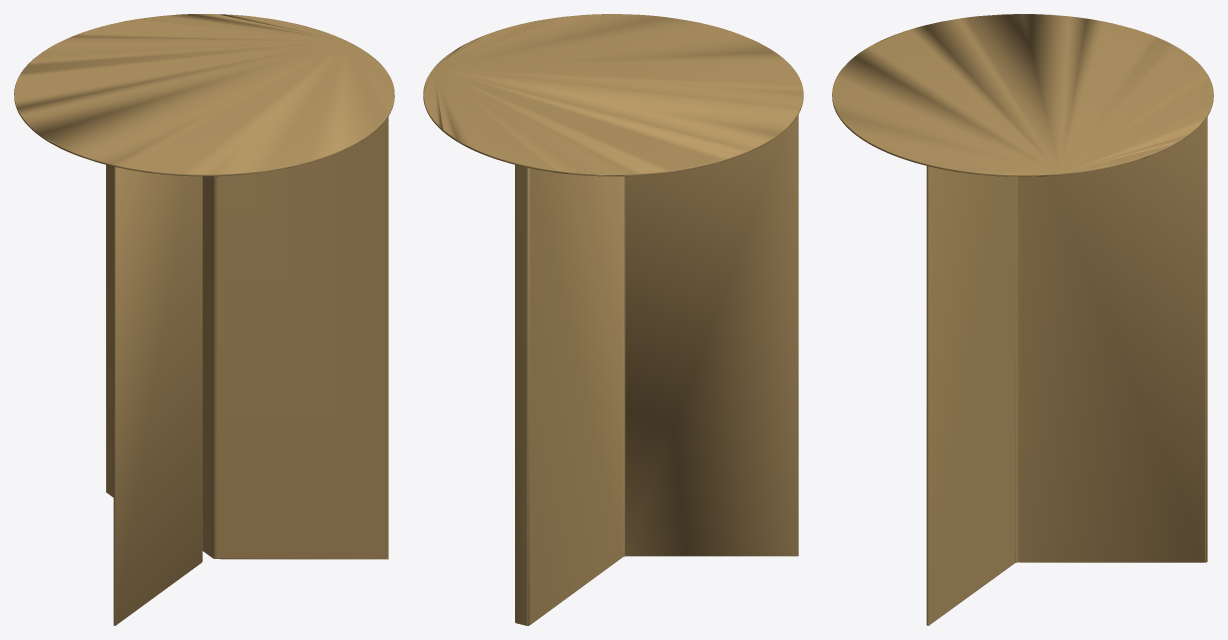
Rendered from dimensiva-slit-side-table-round-high-by-hay.optimized.glb.
The picture shows the model from 3 angles, left to right: view 1: azimuth 30°, elevation 25°; view 2: azimuth 150°, elevation 25°; view 3: azimuth 270°, elevation 25°; orthographic projection.
Parts seen in each view (by area): view 1: Slit Side Table Round High; view 2: Slit Side Table Round High; view 3: Slit Side Table Round High.
Part boxes in pixels (x1,y1,x2,y2): Slit Side Table Round High: (14, 14, 394, 625); Slit Side Table Round High: (423, 14, 803, 625); Slit Side Table Round High: (832, 14, 1213, 625).
Size of the model in its own units: 0.35 by 0.47 by 0.35.
